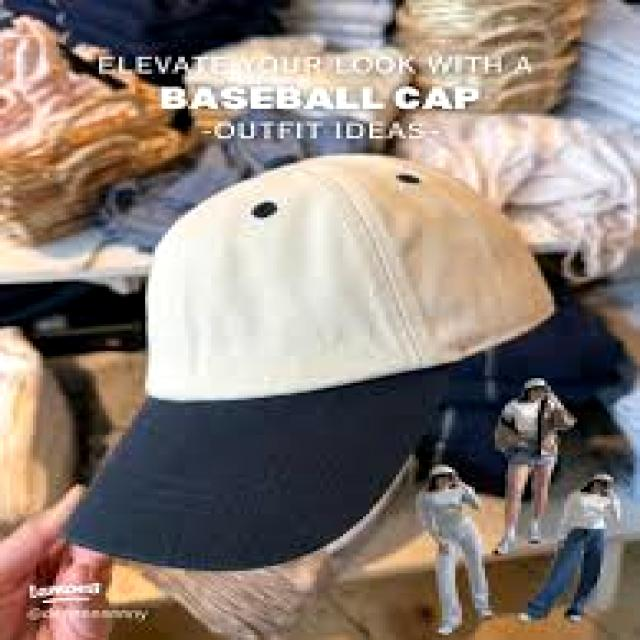hat: (70, 156, 550, 570)
